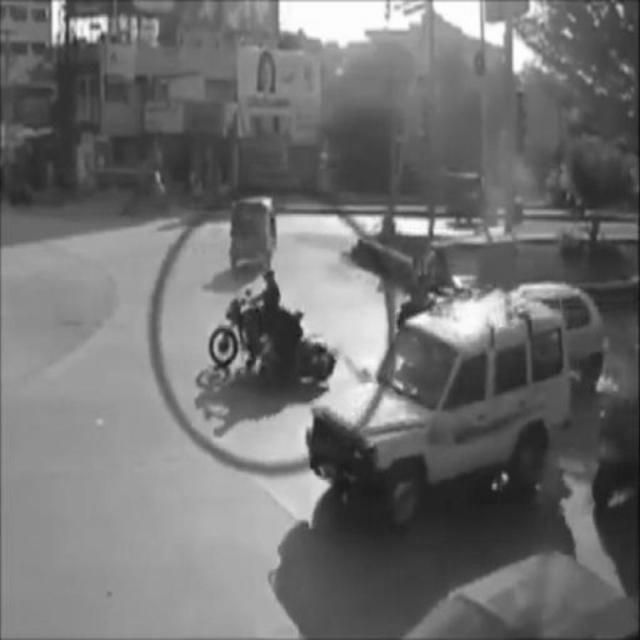accident: (200, 267, 337, 399)
vehicle: (309, 290, 575, 514), (230, 200, 284, 270)
